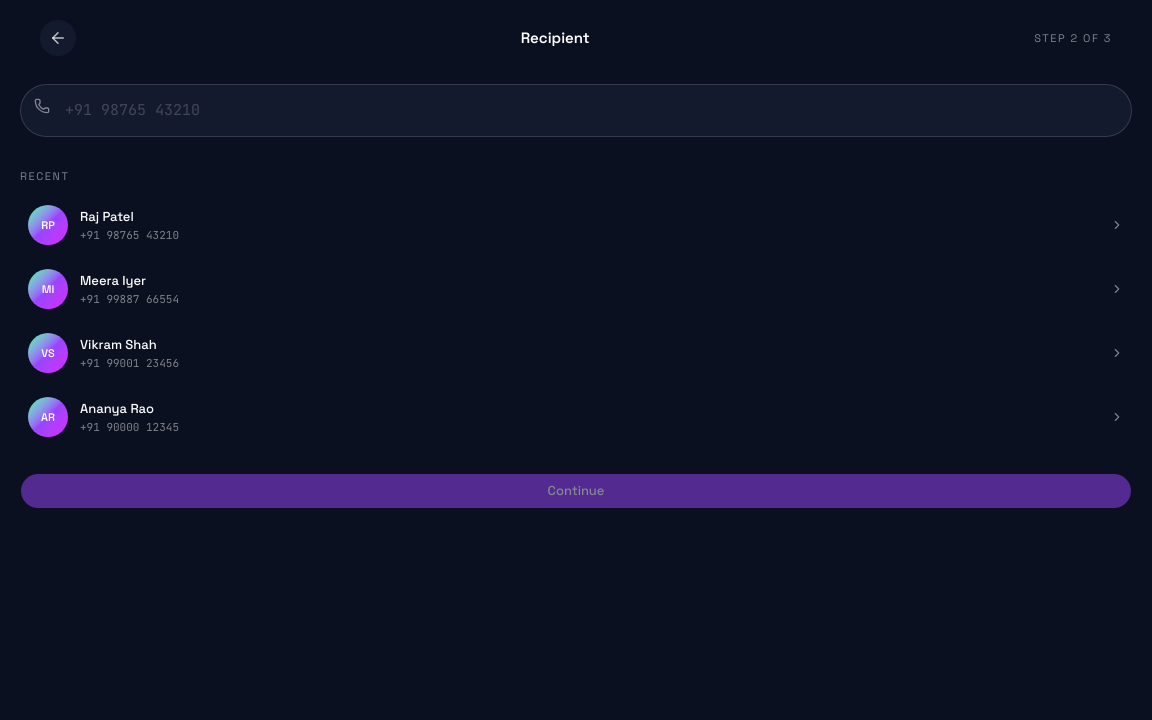
SendRecipientPage › should enable continue button when phone is entered
Type "+919876543210" into the field named "Recipient phone number". click: [576, 110]
box: [20,84,1132,136]
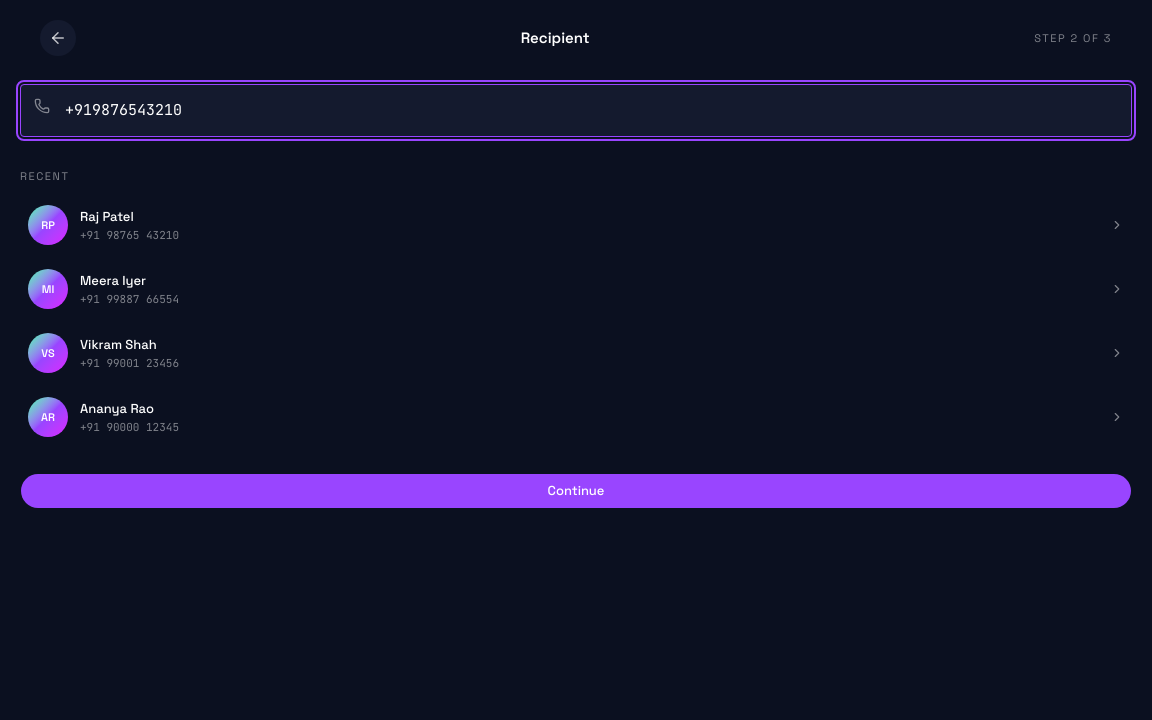
Check: the button "Continue" is enabled, box [20,473,1132,509]
